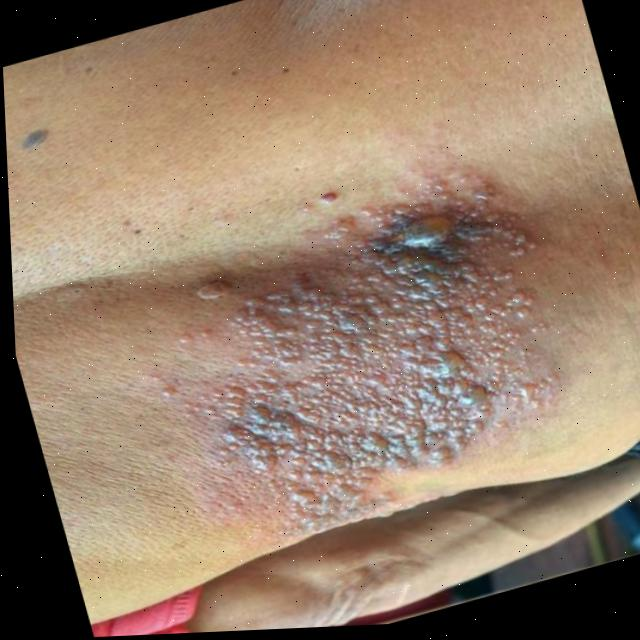Shingles: (171, 216, 541, 530)
